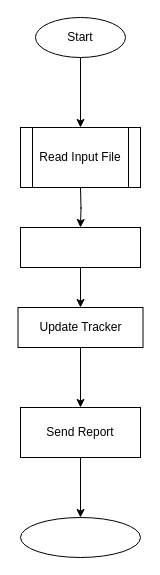
Some shapes in this 160 by 575 pixel diagram are drawn without their labels. The centre of each missing label's shape, as x and y in pixels:
end: point 80,537
Perform Calculation: point 80,247
